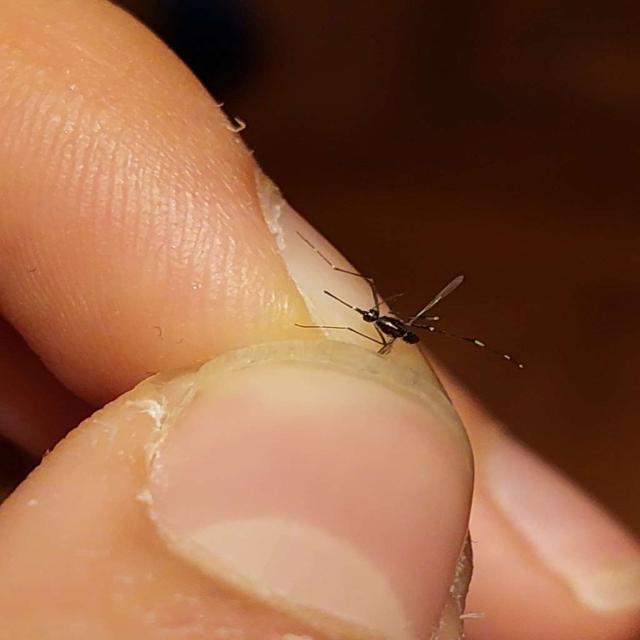albopictus: (297, 252, 531, 368)
